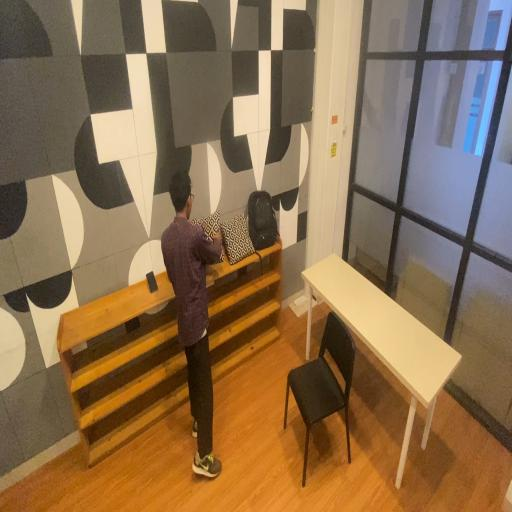bantal: (220, 215, 254, 265)
hp: (146, 269, 159, 297)
kursi: (282, 307, 355, 489)
meja: (298, 250, 466, 496)
tas ransel: (247, 190, 279, 252)
